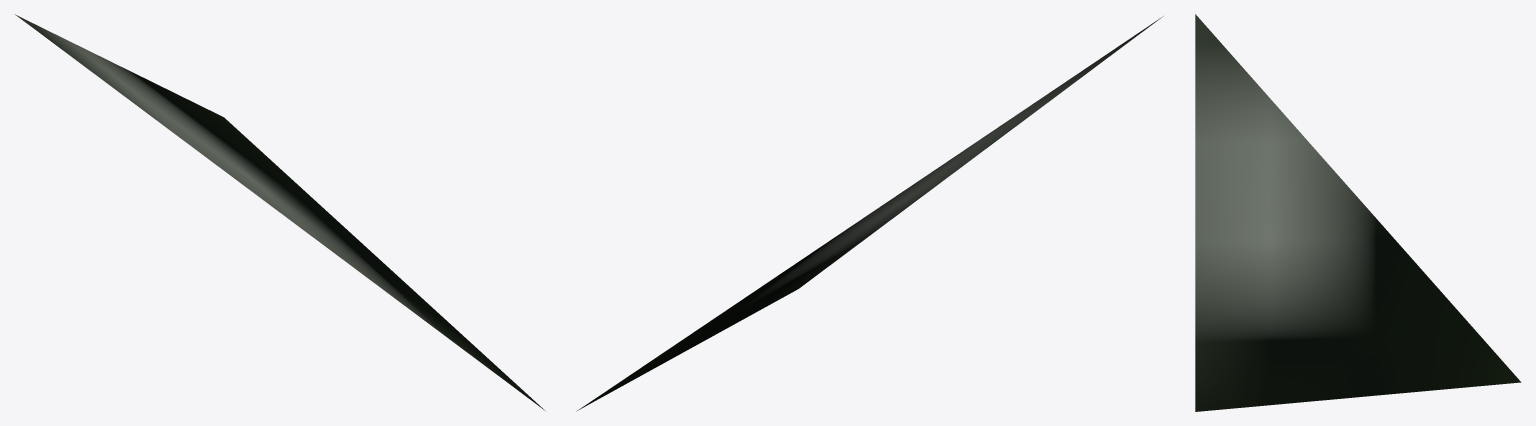
3 renders of one model, left to right at view 1: azimuth 30°, elevation 25°; view 2: azimuth 150°, elevation 25°; view 3: azimuth 270°, elevation 25°, orthographic. The views are drawn at different scales.
Bounding box in the file's own units: 0.0658 × 0.0623 × 0.069.
Materials: 1 (1 with a texture image).
